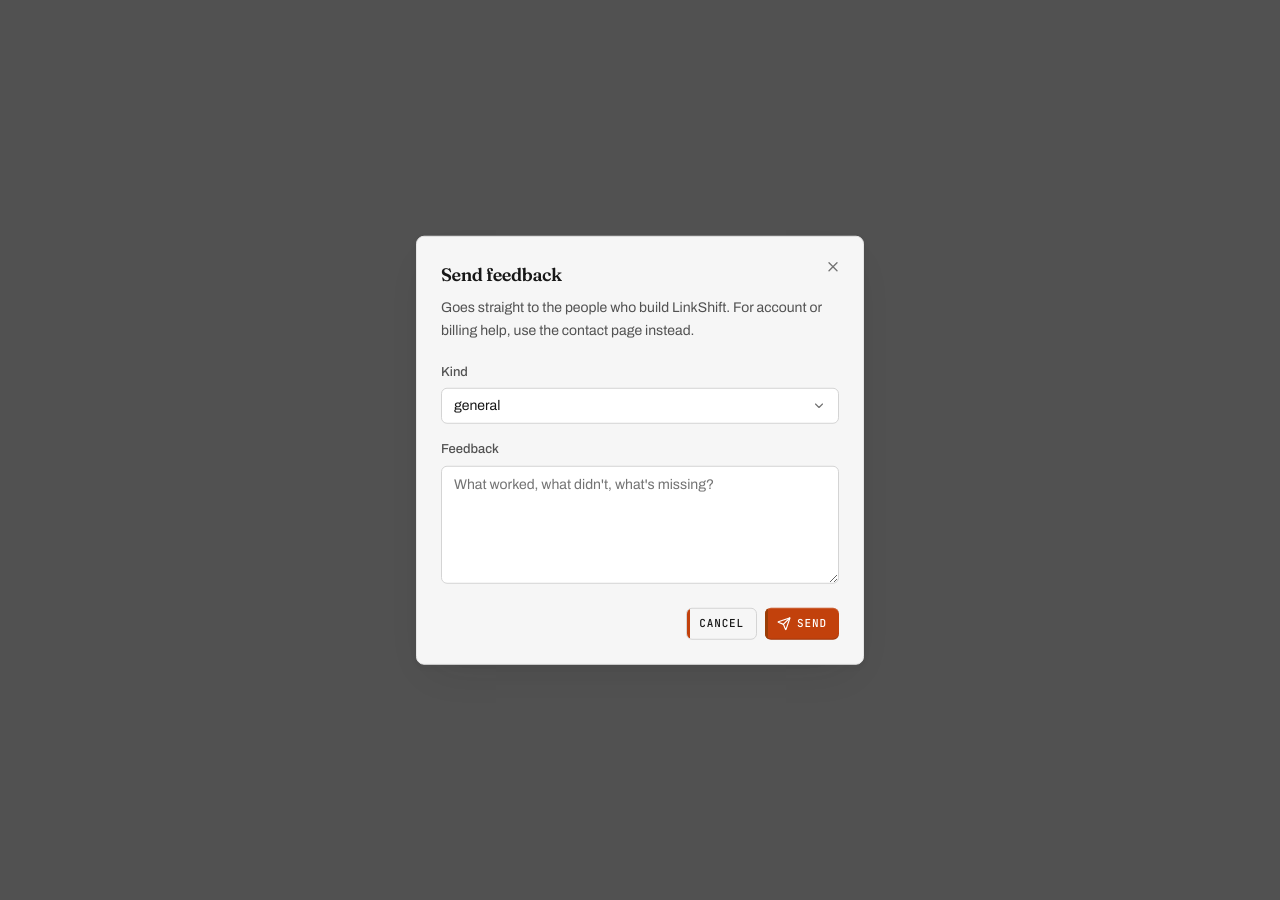
Feedback dialog › sends the chosen category and confirms with a thank-you state
The width and height of the screenshot is (1280, 900).
Type "The analytics range switch is the best part of the dashboard." into the text box labelled "Feedback".
click(640, 524); type("The analytics range switch is the best part of the dashboard.")  # box [441,465,839,583]
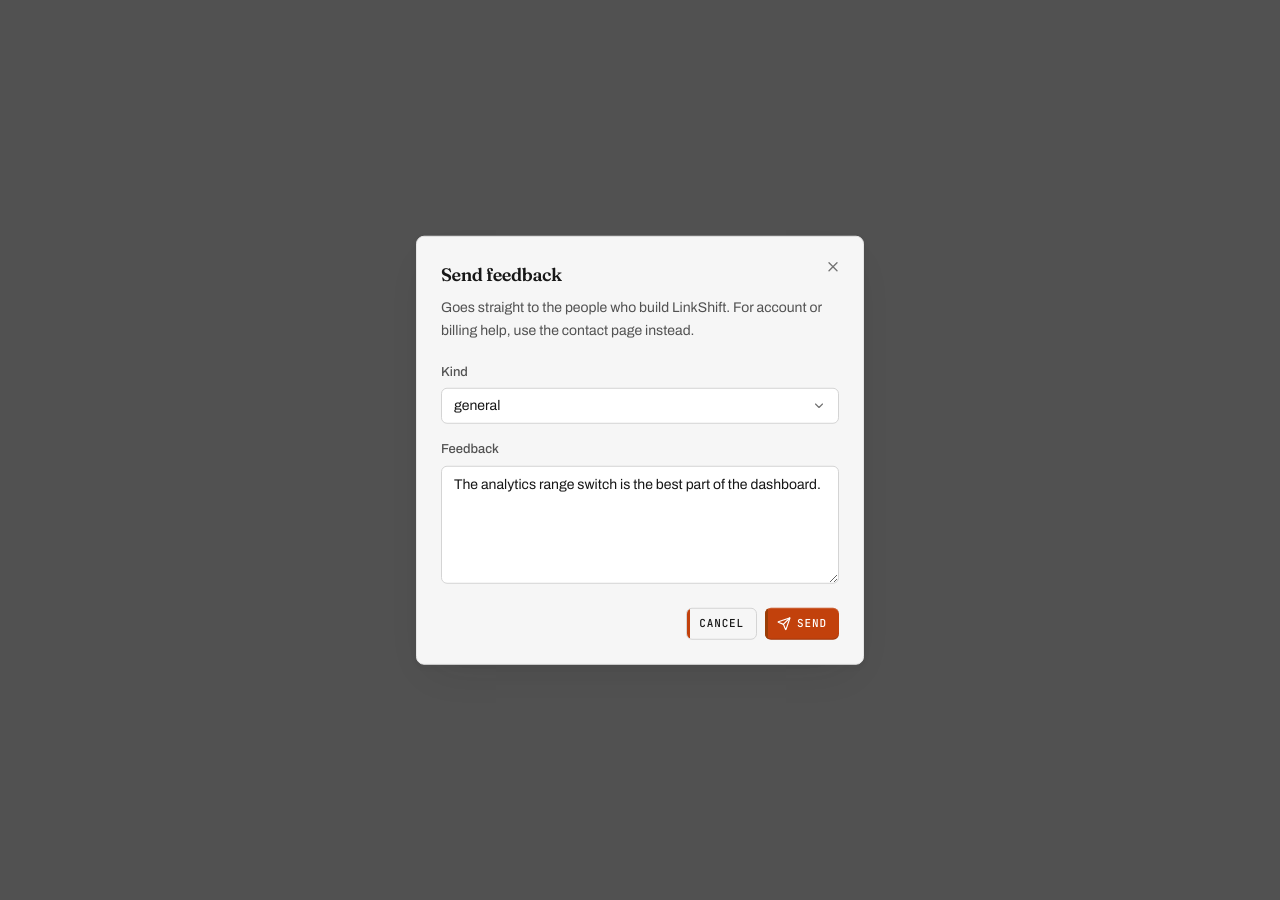
Click the button "Send".
click(802, 623)  # box [765,607,839,639]
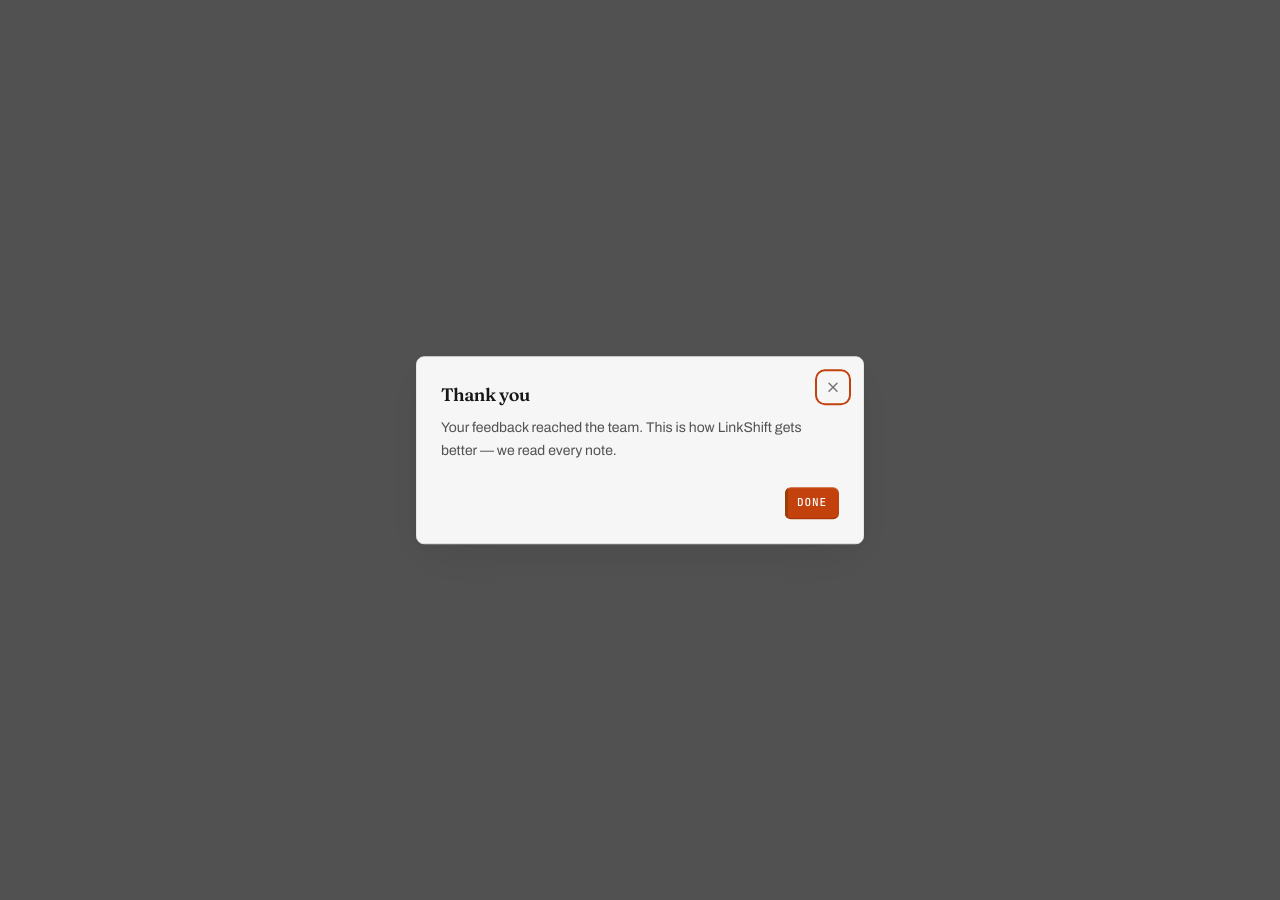
Expected: the heading "Thank you" is shown, [441,383,530,406]
